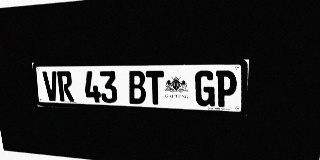3: (99, 71, 117, 103)
4: (83, 71, 101, 103)
B: (128, 71, 146, 104)
G: (195, 70, 215, 107)
P: (215, 70, 237, 107)
R: (57, 71, 74, 102)
T: (146, 71, 164, 105)
V: (42, 71, 60, 101)
